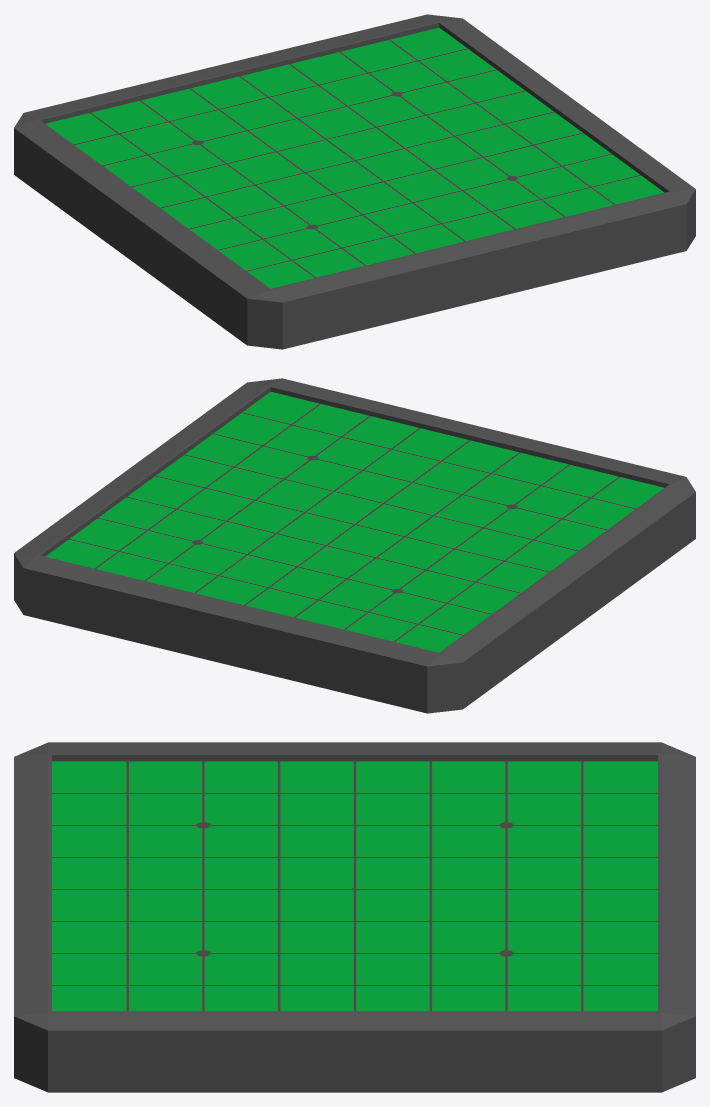
The model's file is Board.fbx.
3 renders of one model, top to bottom at view 1: azimuth 30°, elevation 25°; view 2: azimuth 150°, elevation 25°; view 3: azimuth 270°, elevation 25°, orthographic. The views are drawn at different scales.
Parts seen in each view (by area): view 1: FieldBase; view 2: FieldBase; view 3: FieldBase.
Boxes of the visible parts, x1,y1,x2,y2 form: FieldBase: (14,14,695,349); FieldBase: (14,378,695,713); FieldBase: (14,742,695,1092).
Bounding box in the file's own units: 900 × 100 × 900.
